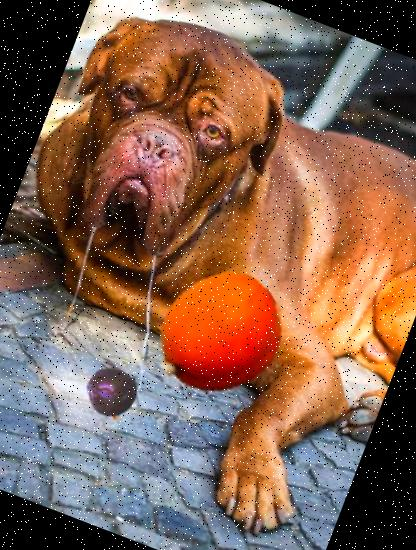Apricot: (135, 251, 303, 419)
Passion: (78, 359, 146, 427)
